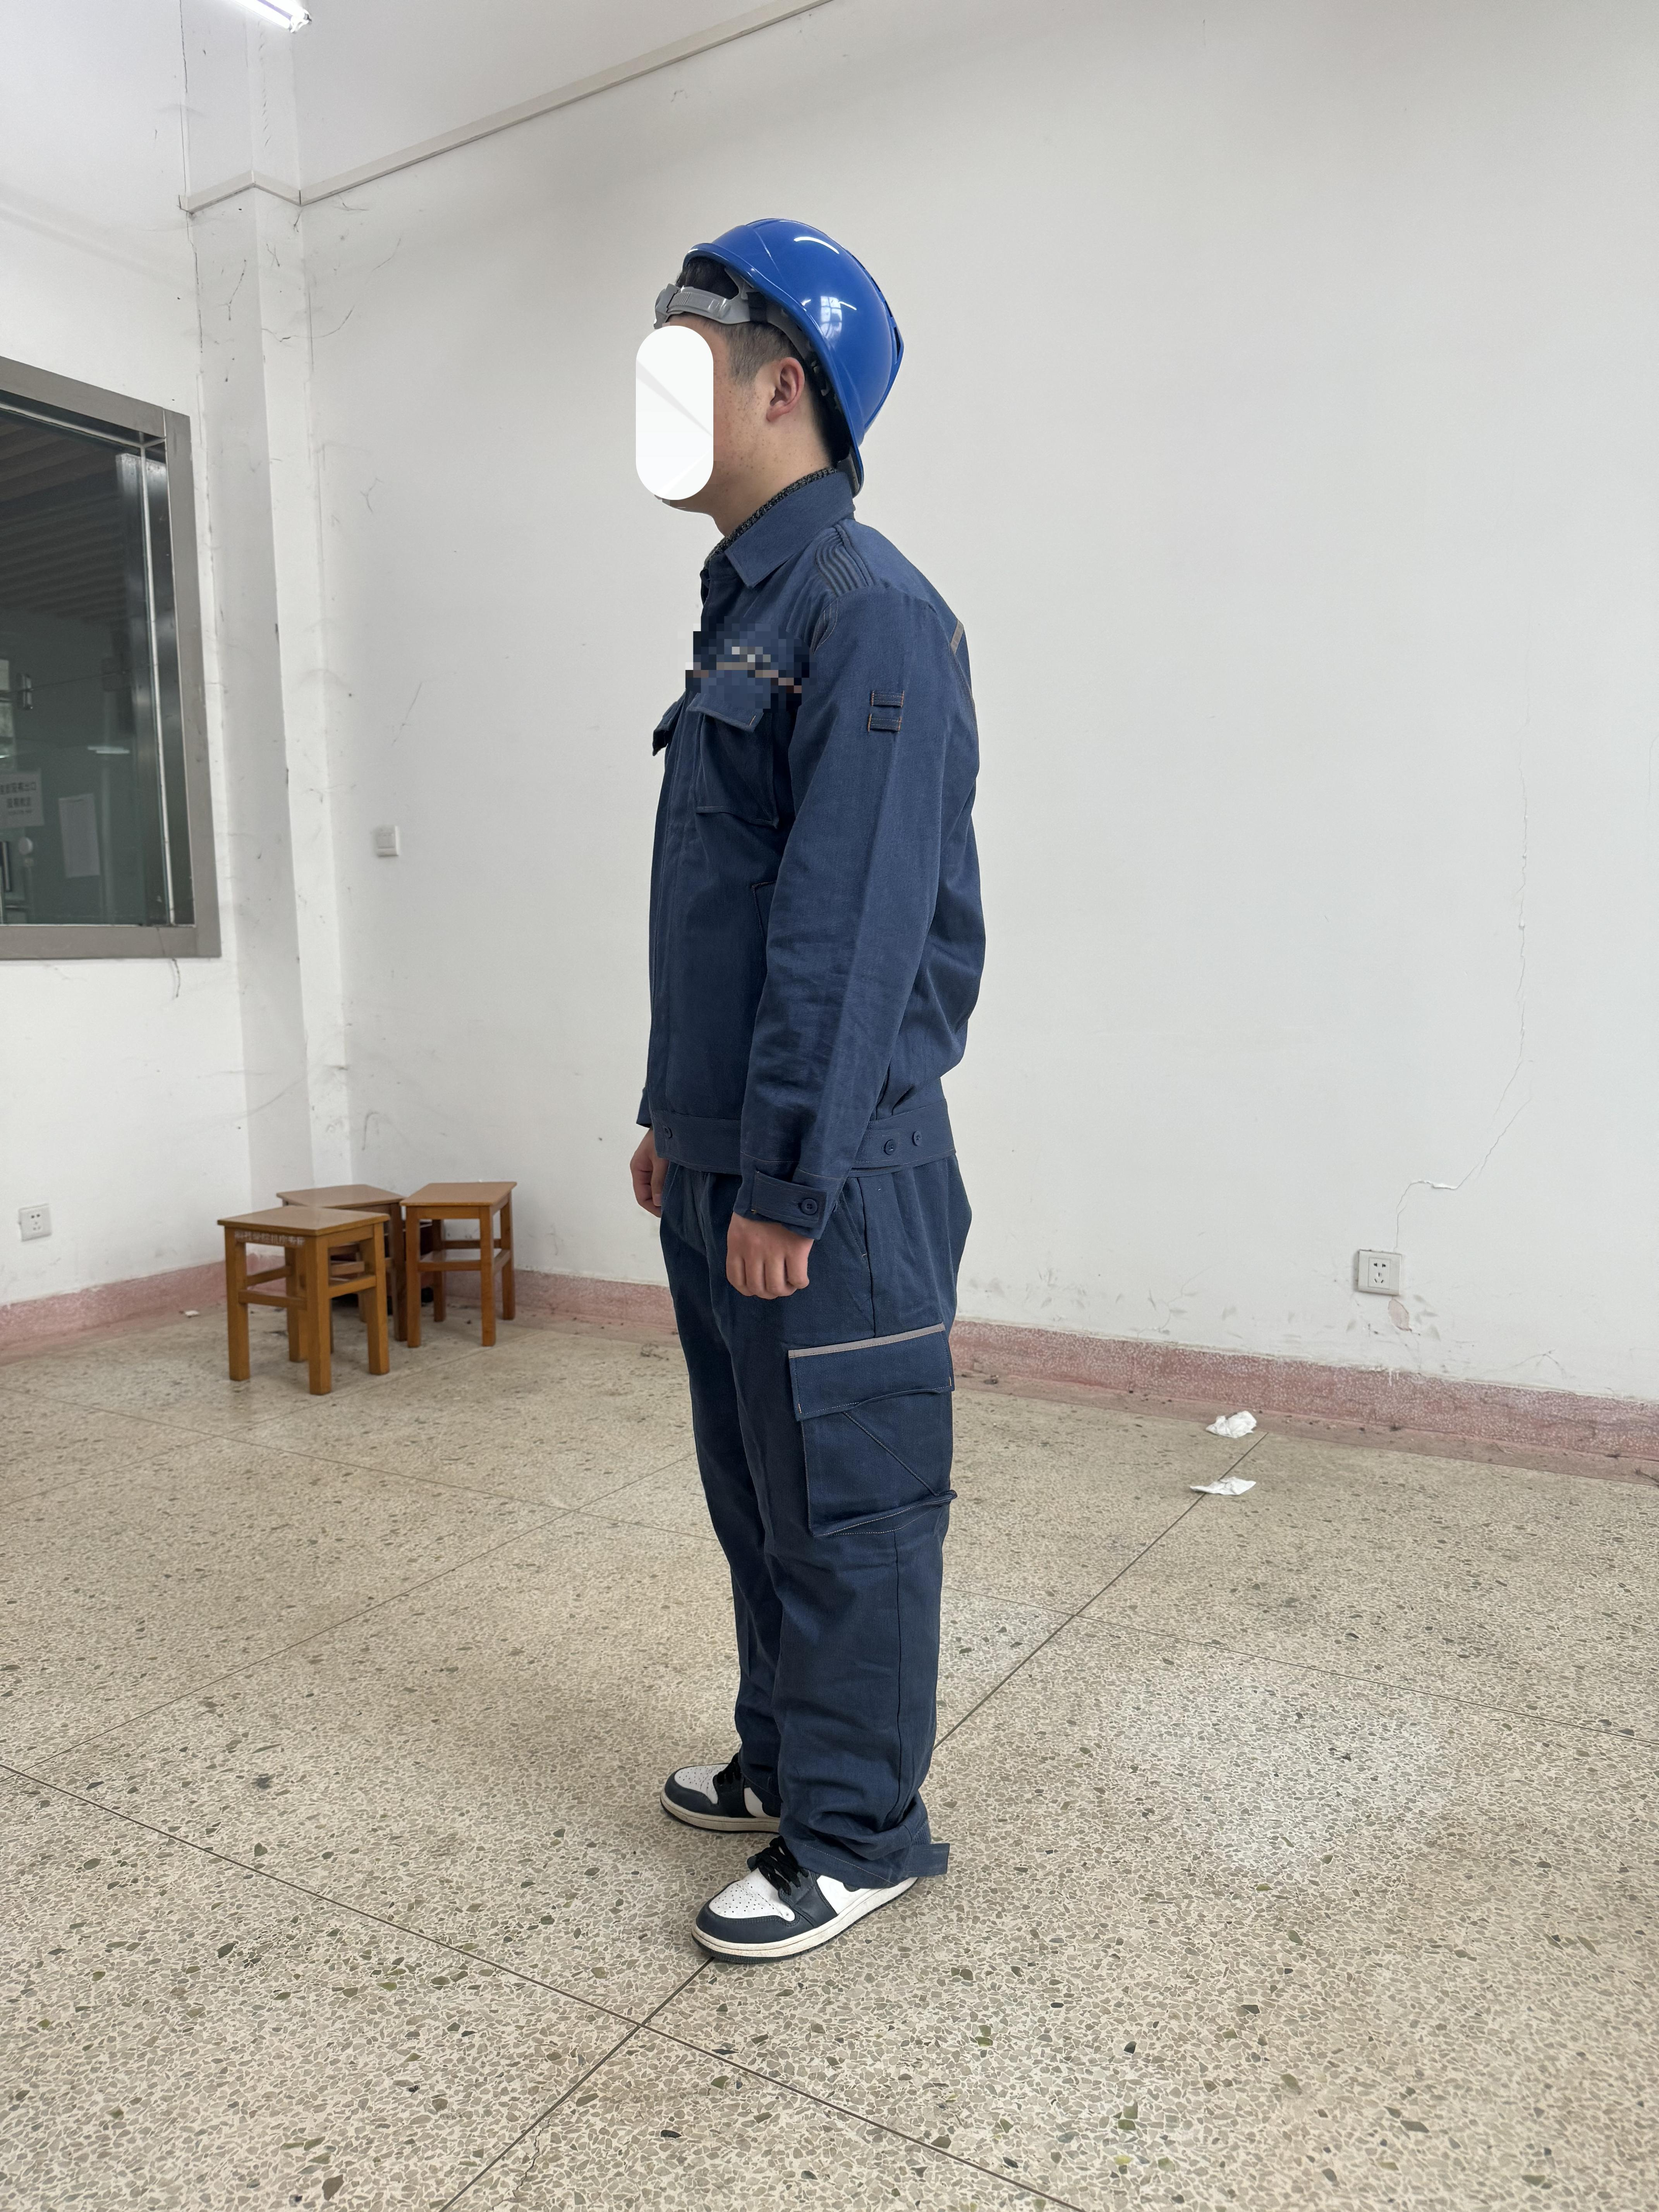noear: (723, 333, 833, 484)
